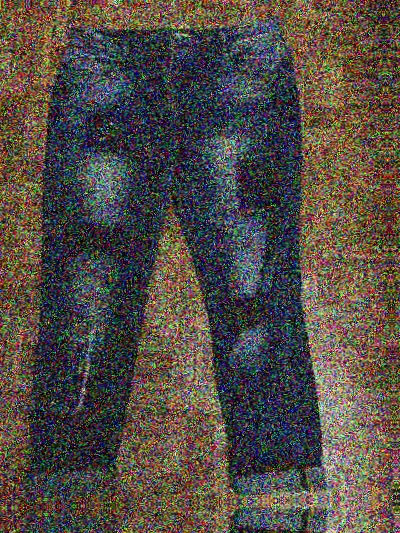Pants: (0, 13, 348, 496), (10, 512, 362, 533)
